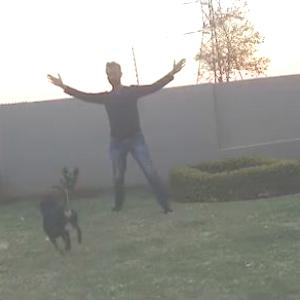takeoff: (57, 52, 204, 218)
